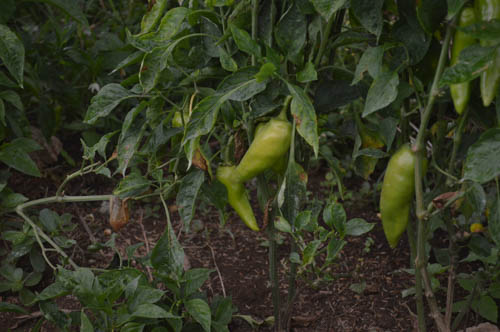ChiliPepper: (383, 146, 426, 241), (228, 122, 296, 182), (221, 166, 257, 231), (453, 13, 475, 115), (477, 10, 494, 102)
